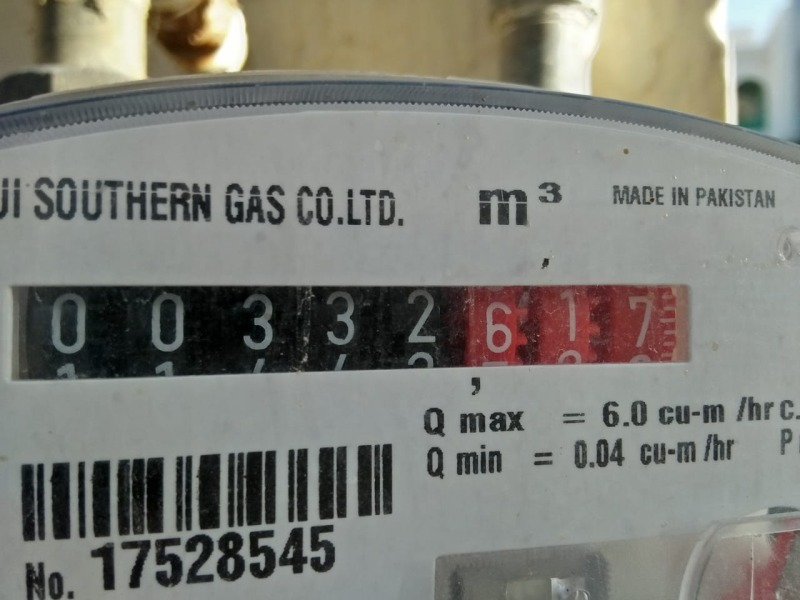ssgc: (8, 274, 697, 377)
